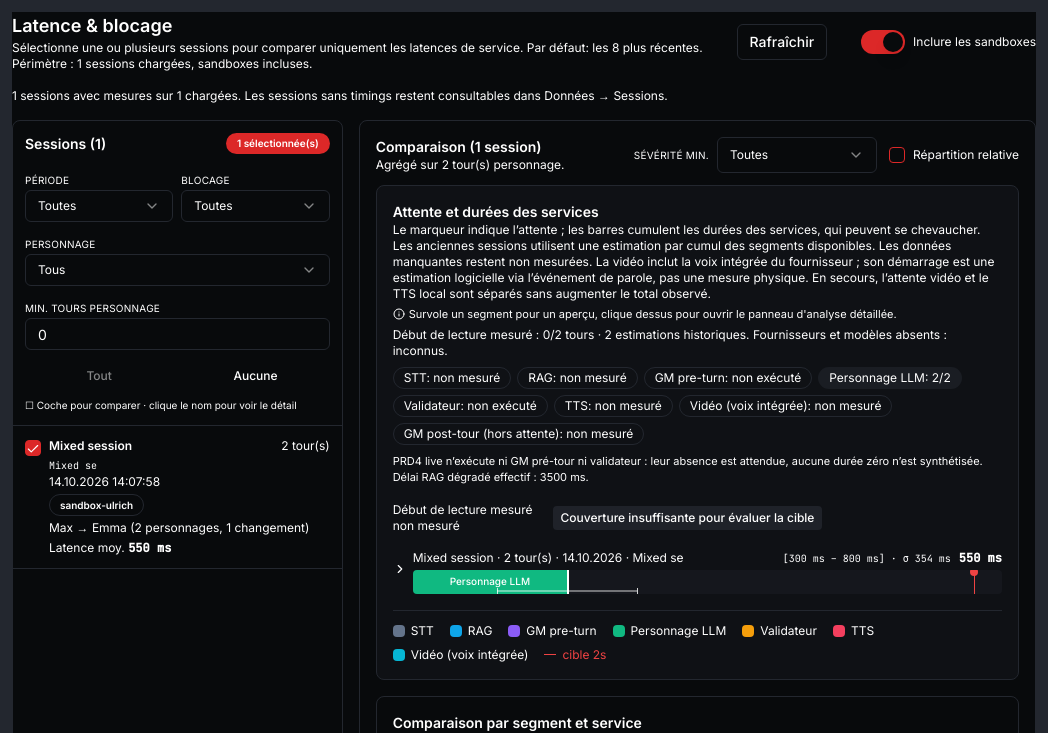
Test: LatencyBlockingTab session scope › filters the actual turns of a mixed conversation and offers future characters
The width and height of the screenshot is (1048, 733).
Expected: the button that starts with "Mixed session" is shown, top-left (49, 438), bottom-right (330, 556)
Press ArrowDown in the dropdown named "Filtrer les latences par personnage", box top-left (25, 254), bottom-right (330, 286)
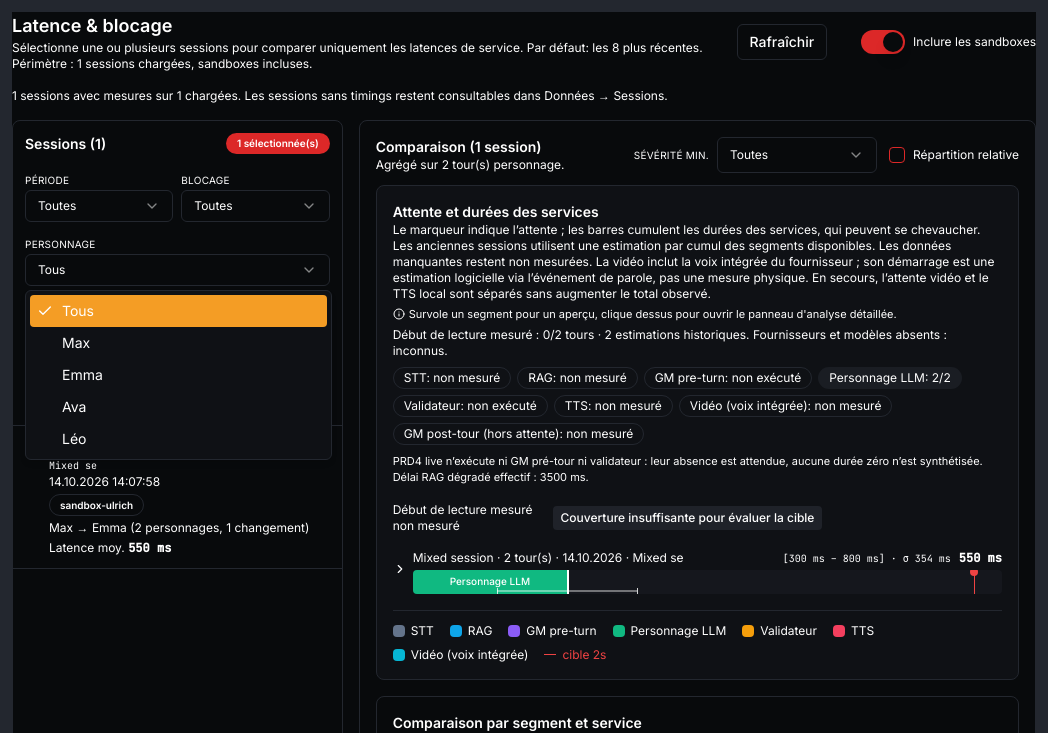
Expected: the option "Léo" is shown, top-left (62, 430), bottom-right (86, 447)
Click the option "Emma" at [82, 374], box top-left (62, 366), bottom-right (103, 383)
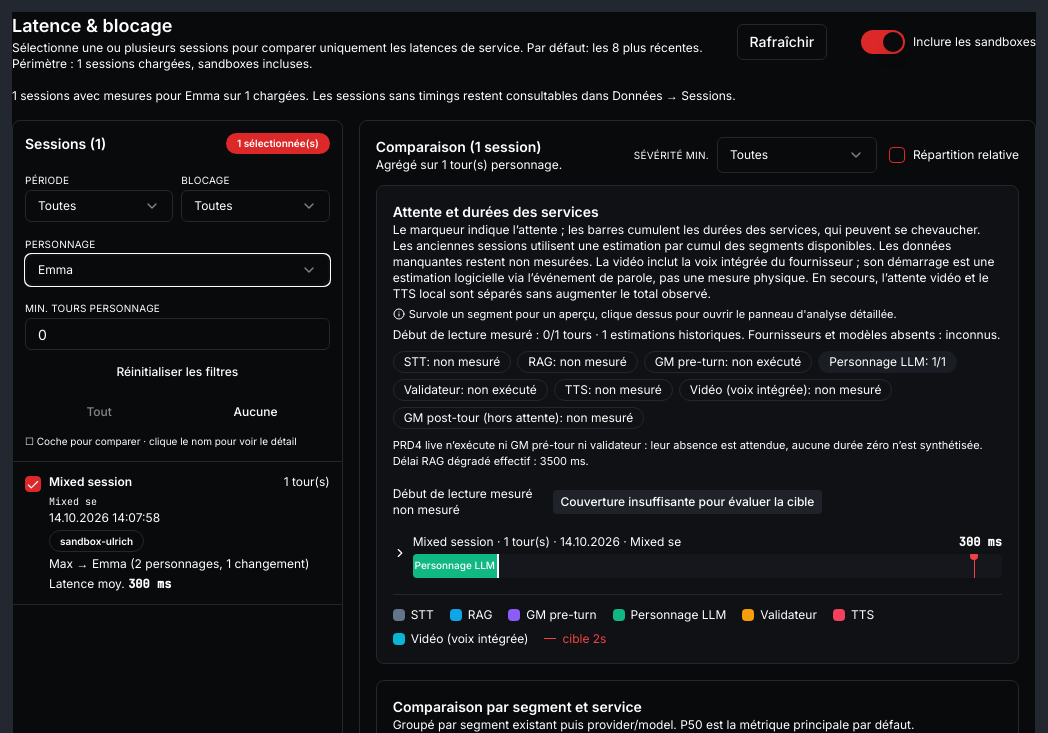
Expected: the text "1 sélectionnée(s)" is shown, top-left (226, 133), bottom-right (330, 154)
Expected: the button that starts with "Mixed session" is shown, top-left (49, 474), bottom-right (330, 592)
Expected: the text "Agrégé sur 1 tour(s) personnage." is shown, top-left (376, 157), bottom-right (562, 173)
